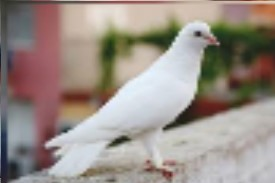pigeon: (40, 19, 220, 181)
